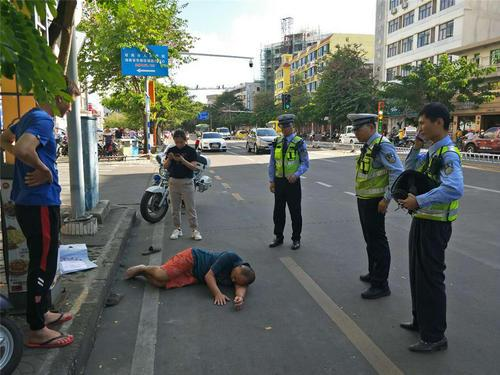down: (111, 242, 269, 310)
up: (8, 74, 82, 346), (399, 99, 466, 356), (349, 102, 400, 308), (261, 106, 314, 252), (153, 120, 210, 242)
